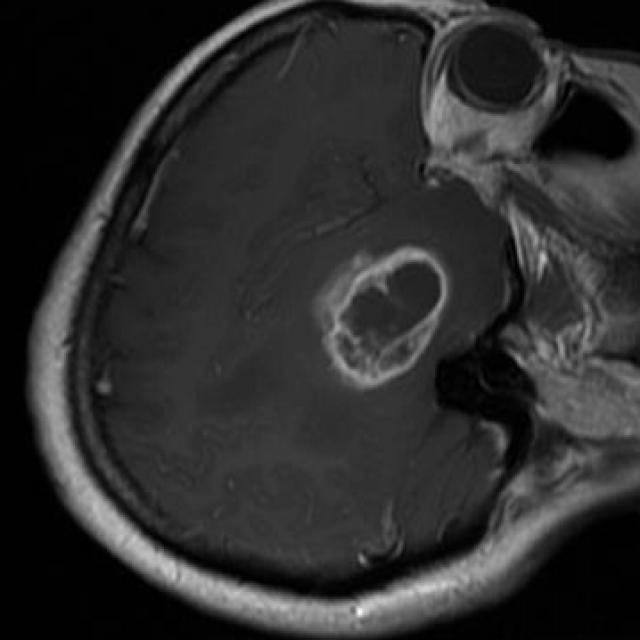glioma: (314, 244, 449, 392)
